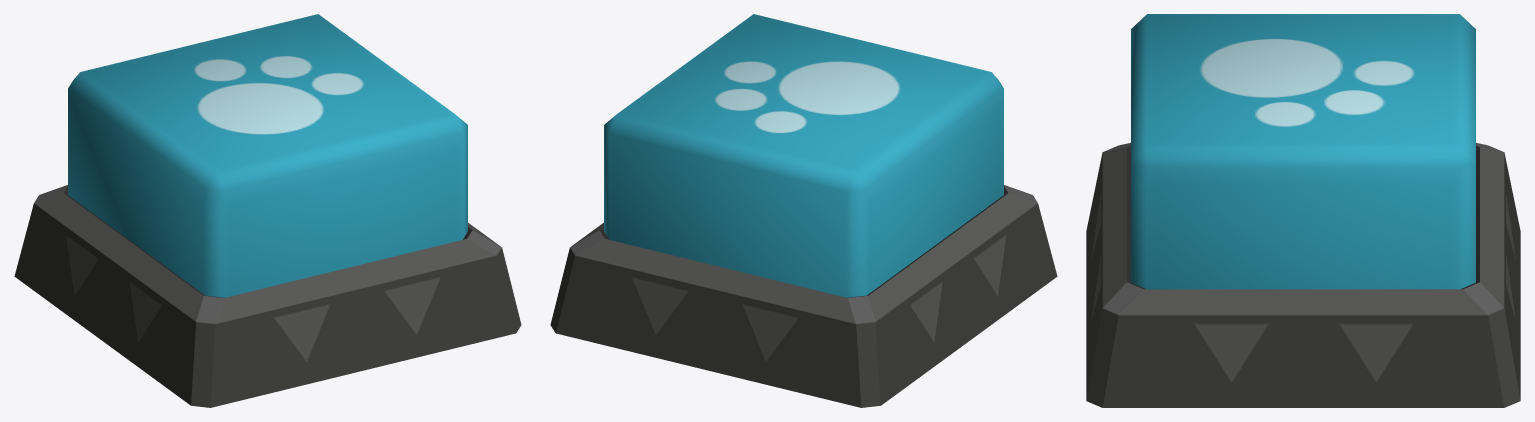
File: G_015_ButtonTrigger.FBX
The picture shows the model from 3 angles, left to right: view 1: azimuth 30°, elevation 25°; view 2: azimuth 150°, elevation 25°; view 3: azimuth 270°, elevation 25°; orthographic projection. The views are drawn at different scales.
Visible parts, largest first — view 1: G_015_Button, G_015_Prop; view 2: G_015_Button, G_015_Prop; view 3: G_015_Button, G_015_Prop.
Part boxes in pixels (<box>): G_015_Button: <box>68,14,467,297</box>; G_015_Prop: <box>14,185,521,407</box>; G_015_Button: <box>604,14,1003,297</box>; G_015_Prop: <box>550,185,1057,407</box>; G_015_Button: <box>1131,14,1475,289</box>; G_015_Prop: <box>1086,143,1520,407</box>.
Bounding box in the file's own units: 200 × 120 × 200.
